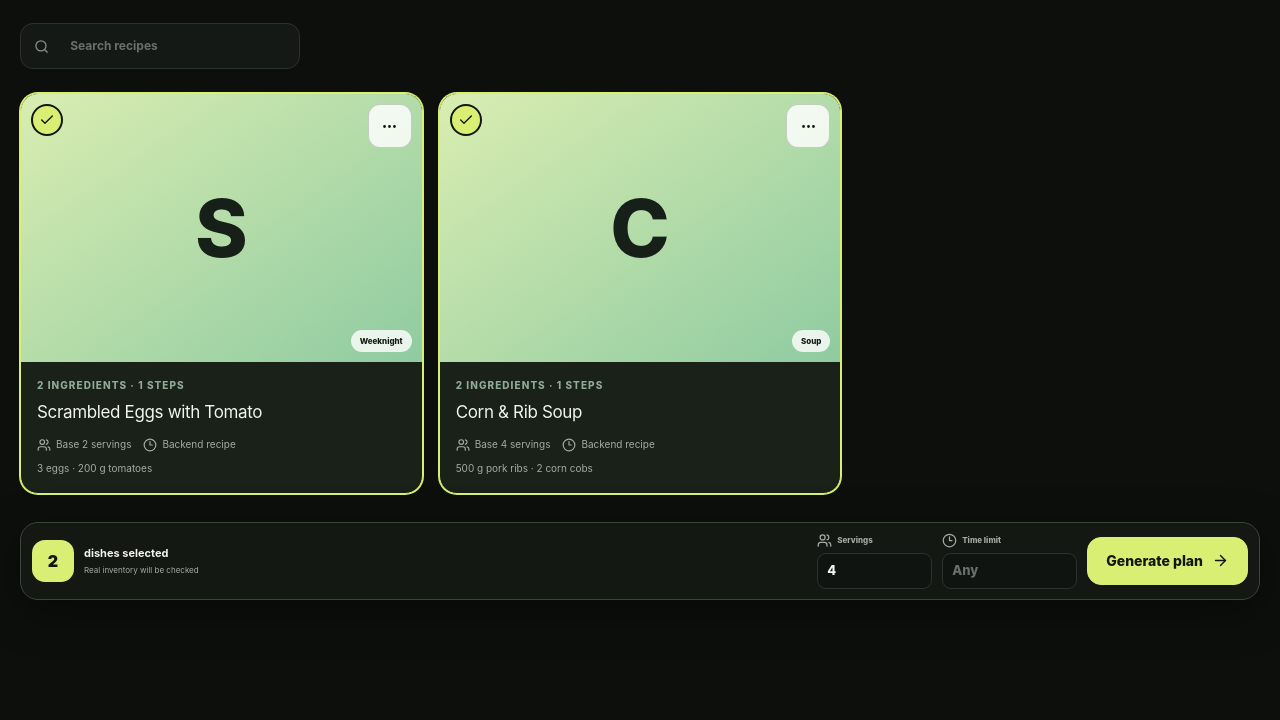
Scenario: cooking plan async generation › renders a terminal FAILED plan when the async submission itself fails
This screenshot has width=1280, height=720.
(page scrolled)
Expected: the heading "Scrambled Eggs with Tomato" is shown, [37,402,262,422]
Click the button "Generate plan" at (1168, 560), box [1087,536,1248,584]
(page scrolled)
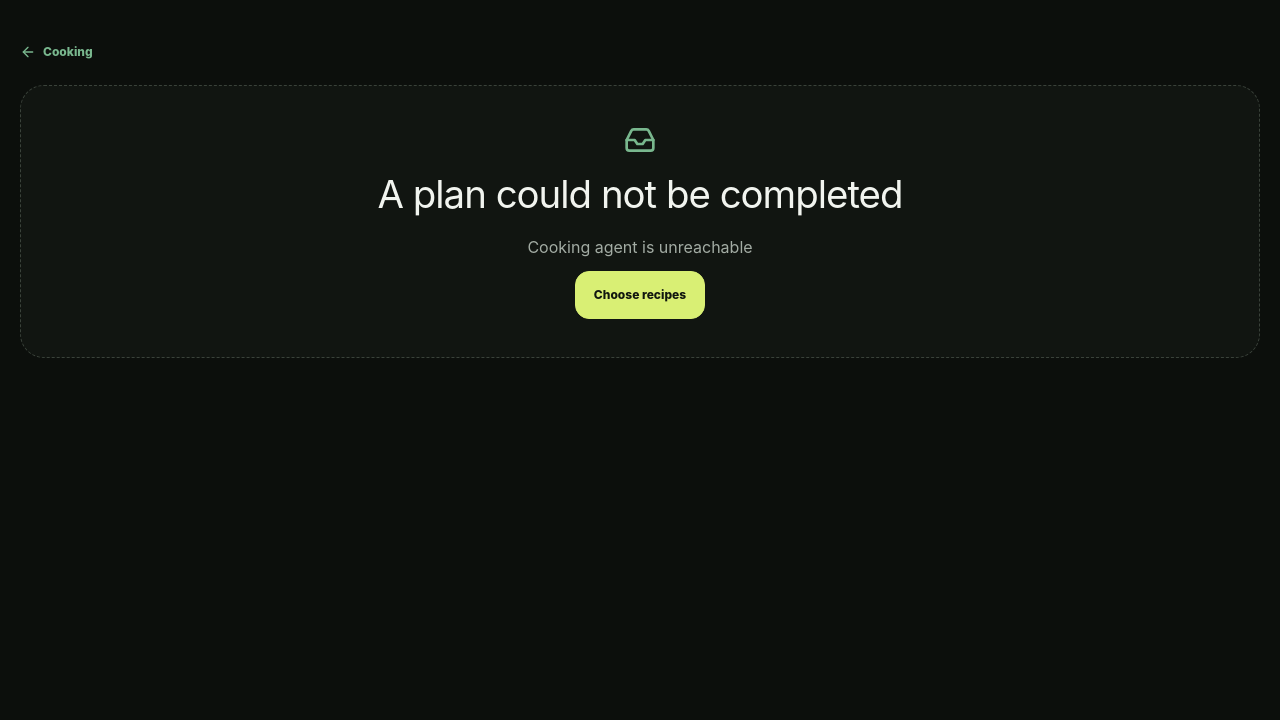
Result: the heading "A plan could not be completed" is shown at [378,166,902,224]
Result: the text "Cooking agent is unreachable" is shown at [527,234,753,261]
